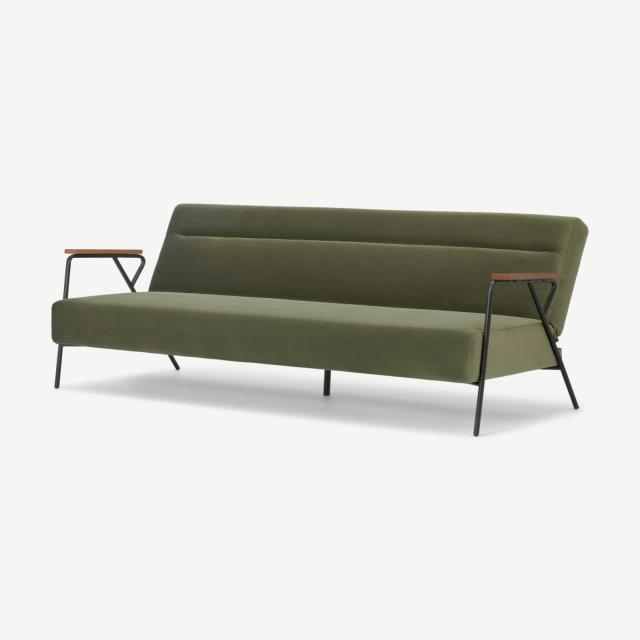back_cushion: (149, 204, 587, 334)
left_arm: (472, 272, 578, 436)
legs: (54, 345, 63, 388), (323, 370, 330, 395), (170, 355, 179, 370)
right_arm: (63, 249, 145, 299), (55, 346, 61, 388)
seat_cushion: (52, 293, 484, 383), (487, 313, 555, 378)
stallion-sofa: (0, 0, 639, 639)
